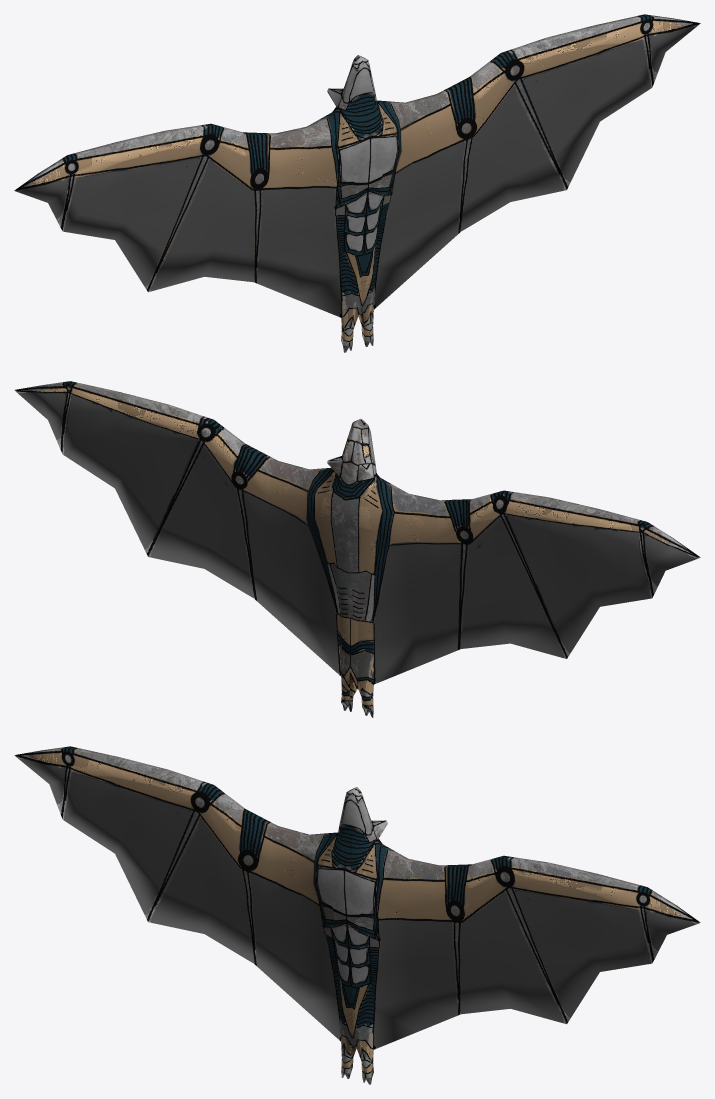
The model's file is BACK_CHIBI_BAT.fbx.
3 renders of one model, top to bottom at view 1: azimuth 30°, elevation 25°; view 2: azimuth 150°, elevation 25°; view 3: azimuth 330°, elevation 25°, orthographic.
Parts seen in each view (by area): view 1: BACK_CHIBI_BAT; view 2: BACK_CHIBI_BAT; view 3: BACK_CHIBI_BAT.
Boxes of the visible parts, x1,y1,x2,y2 form: BACK_CHIBI_BAT: (14,14,700,352); BACK_CHIBI_BAT: (14,381,700,717); BACK_CHIBI_BAT: (14,746,700,1084).
Bounding box in the file's own units: 0.0741 × 0.0303 × 0.00479.
